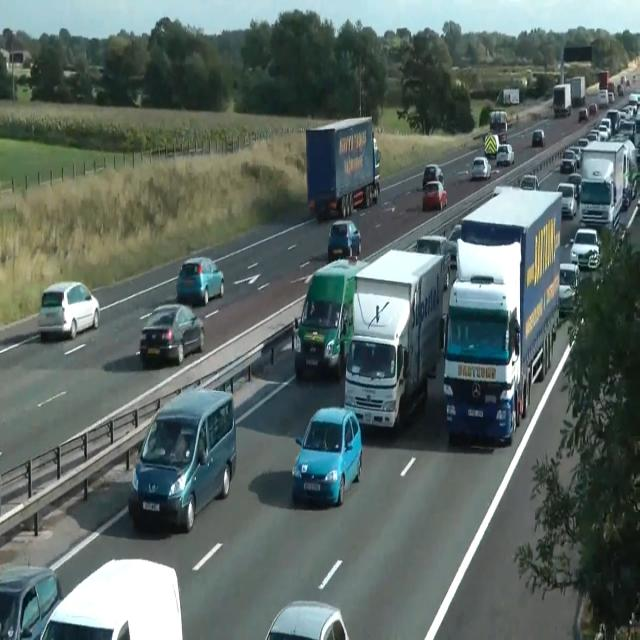bus: (39, 557, 183, 639), (292, 405, 362, 507), (0, 563, 62, 639), (139, 302, 205, 366), (37, 280, 100, 340), (264, 600, 350, 639), (176, 256, 224, 306), (327, 220, 361, 262), (570, 227, 602, 269), (558, 261, 580, 315), (556, 181, 578, 218), (422, 180, 447, 212), (447, 223, 461, 268), (422, 164, 444, 188), (471, 156, 491, 180), (496, 143, 514, 166), (560, 150, 578, 173), (568, 172, 582, 198), (519, 173, 540, 190), (448, 223, 461, 243), (531, 129, 545, 147), (352, 188, 364, 208), (578, 107, 588, 121), (589, 103, 597, 115), (636, 190, 640, 211), (618, 84, 624, 96)
car: (439, 278, 522, 447)
jeep: (128, 388, 236, 532)
minibus: (442, 185, 562, 445), (343, 248, 447, 433), (293, 255, 367, 381), (306, 116, 380, 220), (578, 139, 638, 232), (552, 83, 572, 117), (489, 109, 507, 144), (566, 76, 586, 106), (496, 87, 520, 106)
